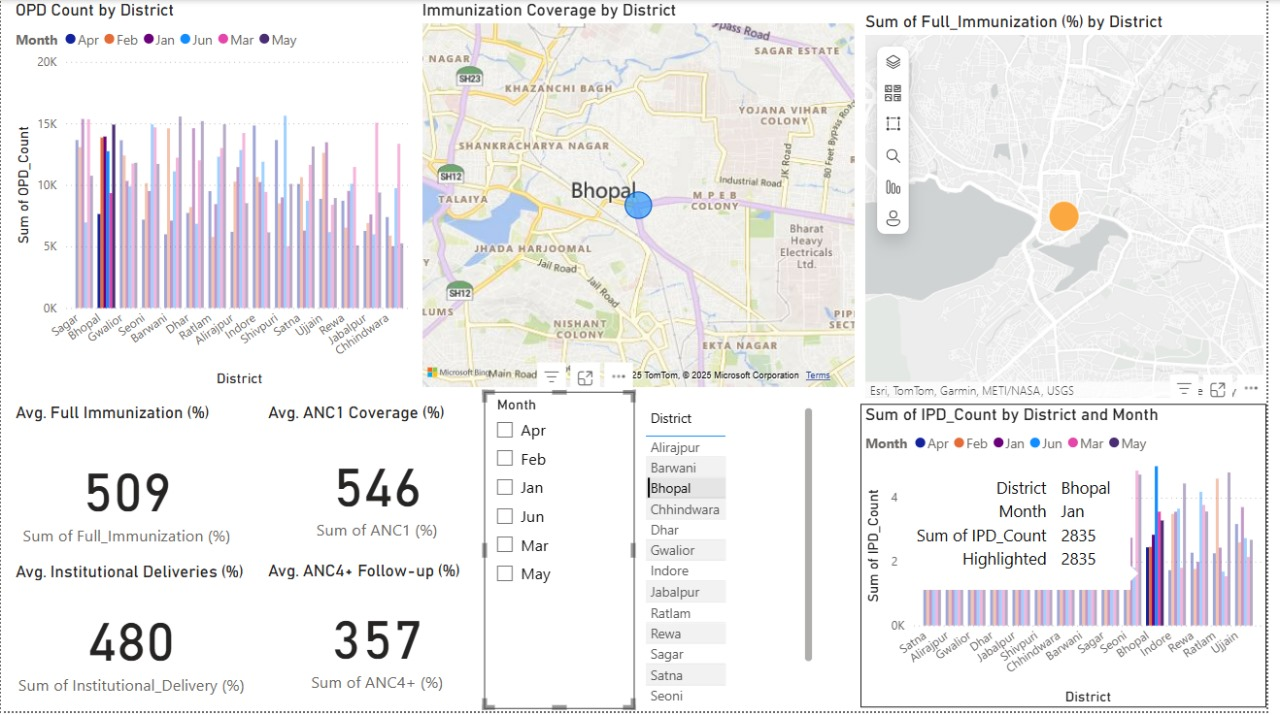

Layout of this report page (visuals, bound fields, positions):
{"tool":"powerbi","page":{"name":"Page 1","canvas":[1280,720],"ordinal":0},"visuals":[{"type":"clusteredColumnChart","title":"OPD Count by District","fields":{"Category":["Sheet1.District"],"Series":["Sheet1.Month"],"Y":["Sum(Sheet1.OPD_Count)"]},"box":[9.6,0,411.7,396.6],"z":0},{"type":"card","title":"Avg. Full Immunization (%)","fields":{"Values":["Sum(Sheet1.Full_Immunization (%))"]},"box":[9.6,407.5,234.6,171.5],"z":1000},{"type":"card","title":"Avg. ANC1 Coverage (%)","fields":{"Values":["Sum(Sheet1.ANC1 (%))"]},"box":[264.8,407.5,230.5,160.5],"z":2000},{"type":"card","title":"Avg. Institutional Deliveries (%)","fields":{"Values":["Sum(Sheet1.Institutional_Delivery (%))"]},"box":[9.6,568.1,244.3,152.3],"z":3000},{"type":"card","title":"Avg. ANC4+ Follow-up (%)","fields":{"Values":["Sum(Sheet1.ANC4+ (%))"]},"box":[265,566.9,230.7,149.7],"z":4000},{"type":"esriVisual","fields":{"Location":["Sheet1.District"],"Size":["Sum(Sheet1.Full_Immunization (%))"]},"box":[868.6,11,411.7,396.6],"z":5000},{"type":"map","title":"Immunization Coverage by District","fields":{"Category":["Sheet1.District"],"Size":["Sum(Sheet1.Full_Immunization (%))"]},"box":[421.3,0,447.3,396.6],"z":6000},{"type":"slicer","fields":{"Values":["Sheet1.Month"]},"box":[488.3,396.3,152.1,321.5],"z":7000},{"type":"tableEx","fields":{"Values":["Sheet1.District"]},"box":[645.4,407.4,180.4,309.2],"z":8000},{"type":"clusteredColumnChart","fields":{"Category":["Sheet1.District"],"Y":["Sum(Sheet1.IPD_Count)"],"Series":["Sheet1.Month"]},"box":[869,408,411,309],"z":8001}]}

Visuals, with their boxes in screenshot pixels (x1, y1, x2, y2), scaled from the page's 1280x720 canvas onto the 1280x715 screenshot:
"OPD Count by District" clusteredColumnChart: [10,0,421,394]
"Avg. Full Immunization (%)" card: [10,405,244,575]
"Avg. ANC1 Coverage (%)" card: [265,405,495,564]
"Avg. Institutional Deliveries (%)" card: [10,564,254,714]
"Avg. ANC4+ Follow-up (%)" card: [265,563,496,712]
esriVisual - Sheet1.District x Sum(Sheet1.Full_Immunization (%)): [869,11,1279,405]
"Immunization Coverage by District" map: [421,0,869,394]
slicer - Sheet1.Month: [488,394,640,713]
tableEx - Sheet1.District: [645,405,826,712]
clusteredColumnChart - Sheet1.District x Sum(Sheet1.IPD_Count): [869,405,1279,712]
